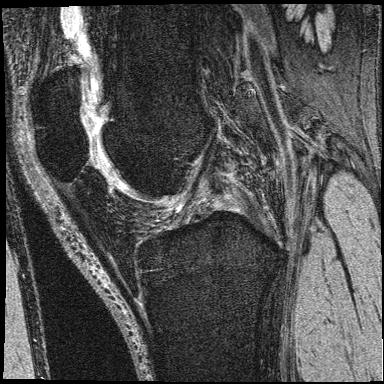SagKneeJointArea: (29, 64, 279, 336)
